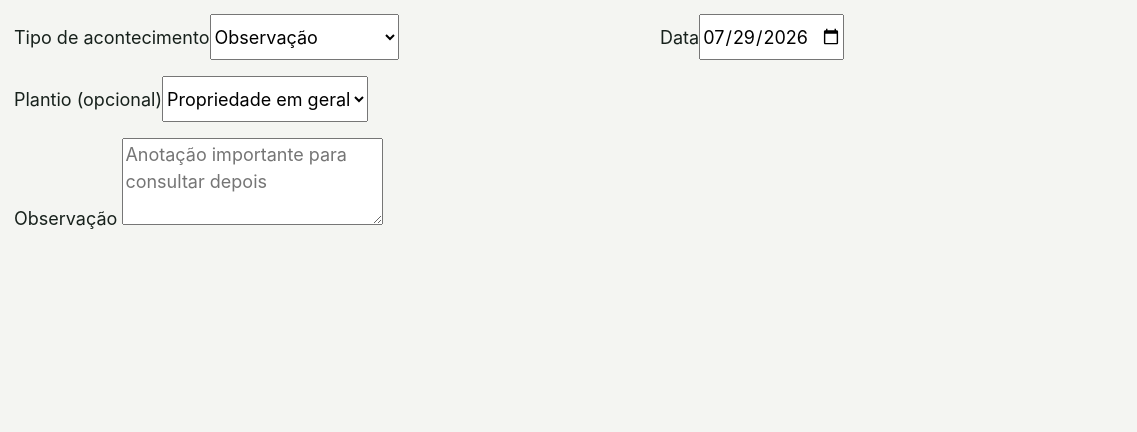
Test: DynamicDiaryFields › mostra os campos financeiros para um gasto geral ou do plantio
The image size is (1137, 432).
Select "Gasto" in the dropdown labelled "Tipo de acontecimento" at (304, 37), box [210,14,398,60]
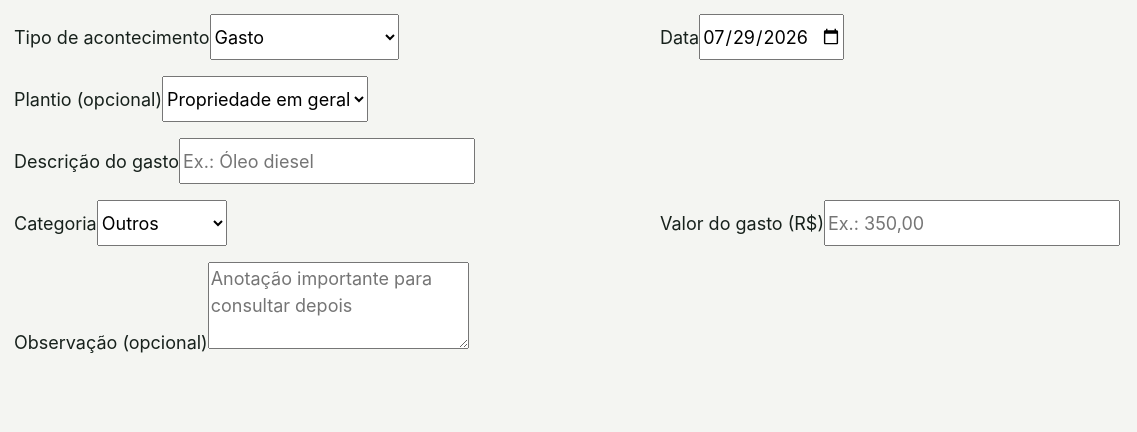
Expected: the dropdown labelled "Plantio (opcional)" is shown, [162,76,368,122]
Select "Combustível" in the dropdown labelled "Categoria" at (162, 223), box [97,200,227,246]
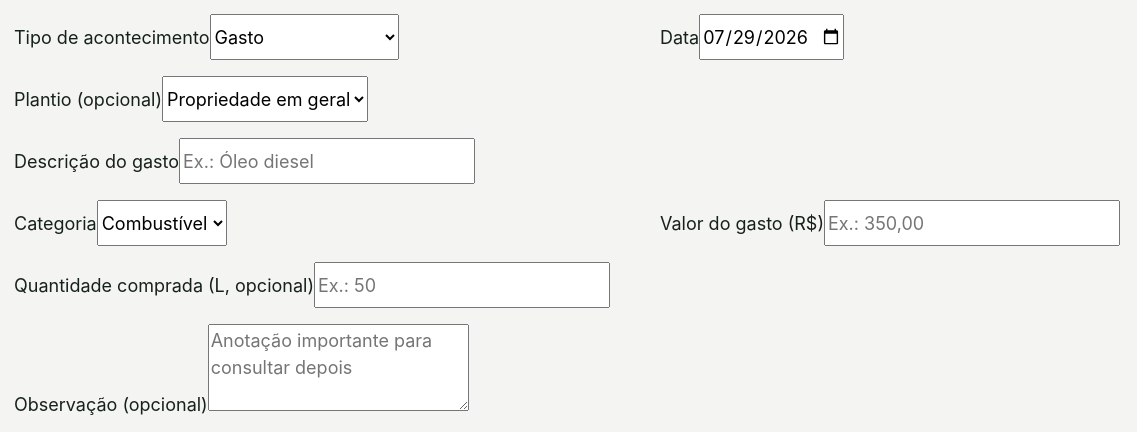
Now the number field labelled "Quantidade comprada (L, opcional)" is shown, box [314,262,610,308]
